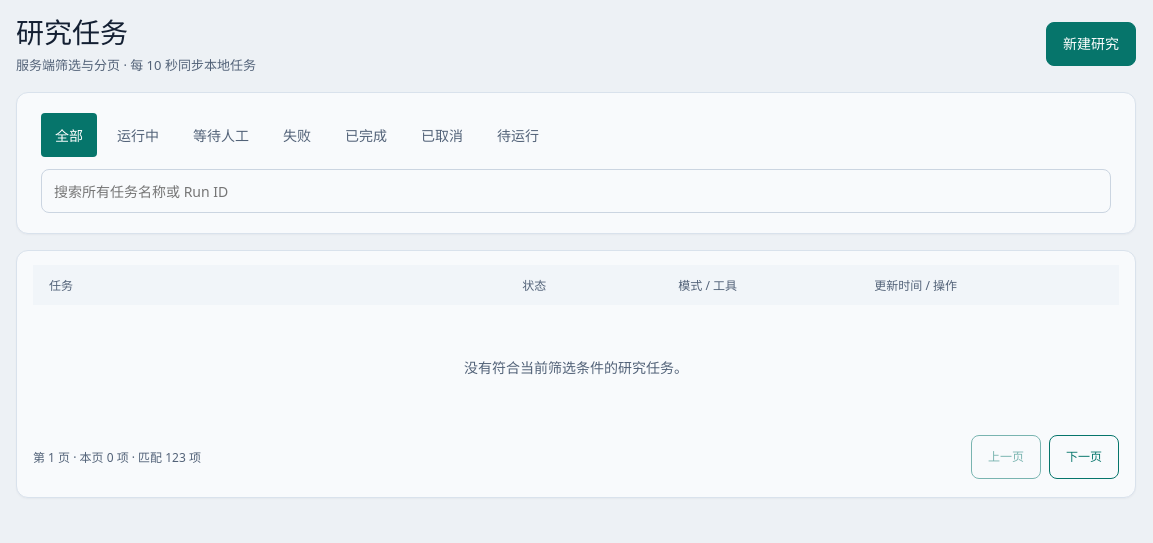
Test: does not show a previous filter total while the new filter is loading
The width and height of the screenshot is (1153, 543).
Expected: the text "第 1 页 · 本页 0 项 · 匹配 123 项" is shown, [33, 448, 201, 466]
Click the tab "失败": {"x": 297, "y": 135} [269, 113, 325, 157]
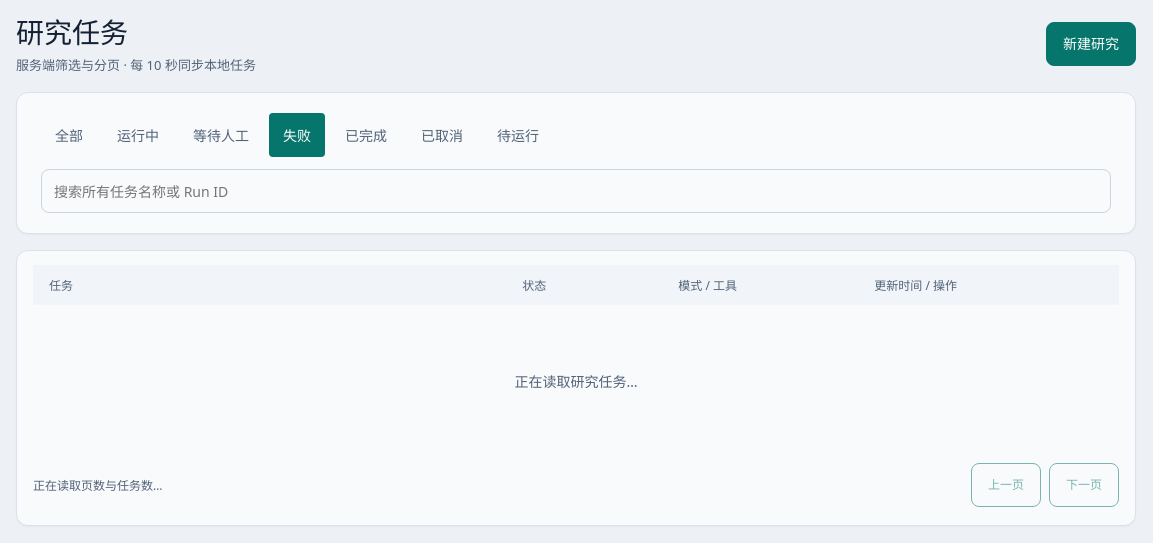
Now the text "匹配 123 项" is gone
Now the text "正在读取页数与任务数…" is shown, box [33, 476, 162, 494]
